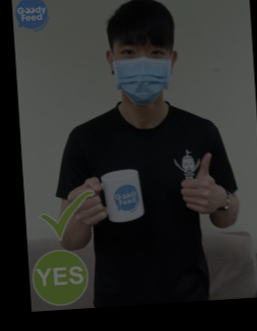with_mask: (112, 40, 171, 108)
